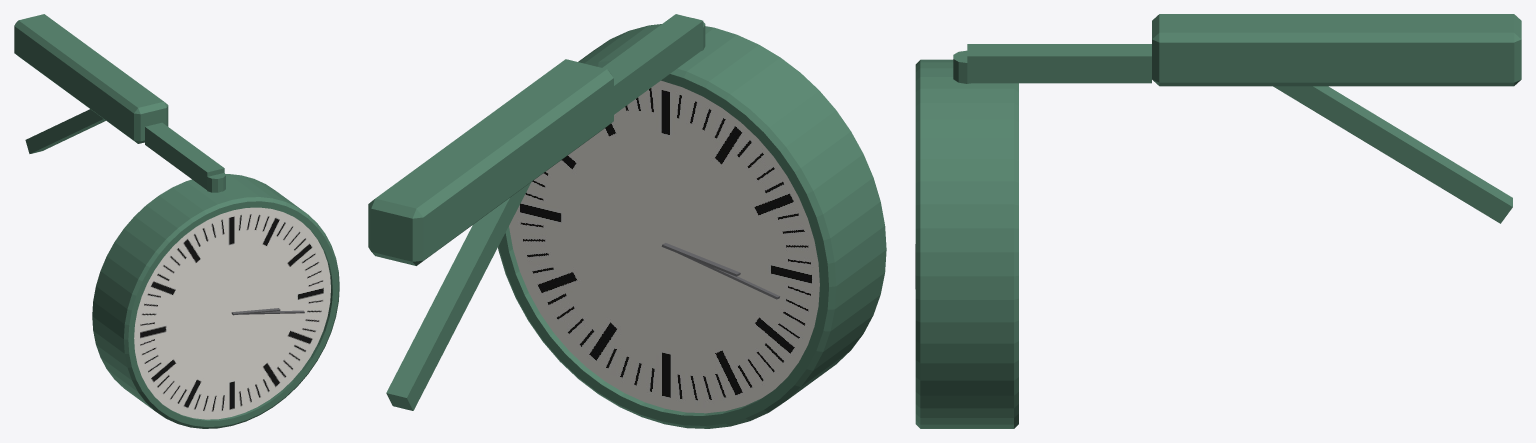
File: relogio_estacao.glb
3 views of the same model, side by side, from view 1: azimuth 30°, elevation 25°; view 2: azimuth 150°, elevation 25°; view 3: azimuth 270°, elevation 25° (orthographic). The views are drawn at different scales.
Visible parts, largest first — view 1: relogio_estacao_mostrador_estacao, relogio_estacao_verde_estacao, relogio_estacao_esmalte_escuro; view 2: relogio_estacao_mostrador_estacao, relogio_estacao_verde_estacao, relogio_estacao_esmalte_escuro; view 3: relogio_estacao_verde_estacao.
Boxes of the visible parts, x1,y1,x2,y2 form: relogio_estacao_mostrador_estacao: [134, 207, 330, 419]; relogio_estacao_verde_estacao: [14, 14, 339, 428]; relogio_estacao_esmalte_escuro: [231, 308, 304, 315]; relogio_estacao_mostrador_estacao: [509, 80, 819, 413]; relogio_estacao_verde_estacao: [368, 14, 886, 428]; relogio_estacao_esmalte_escuro: [661, 243, 779, 299]; relogio_estacao_verde_estacao: [915, 14, 1521, 428].
Size of the model in its own units: 0.5 by 0.58 by 0.8202.
3 materials, 1 textured.
